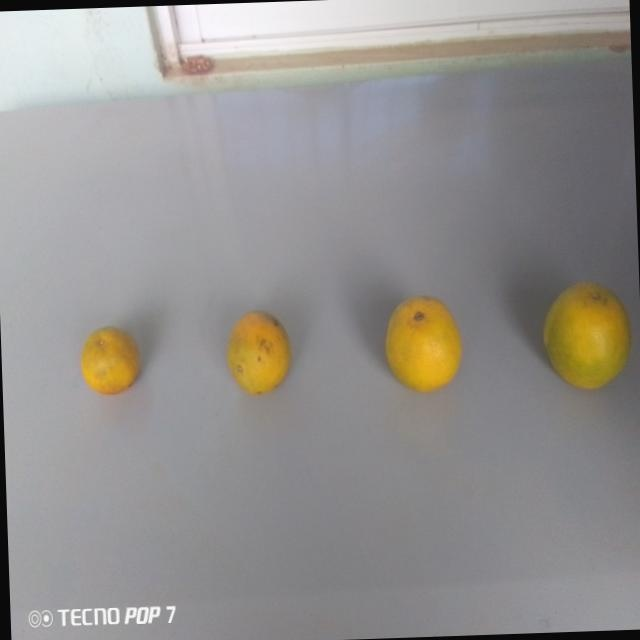agrume: (530, 273, 633, 399), (379, 288, 470, 403), (219, 307, 299, 404), (75, 317, 145, 399)
